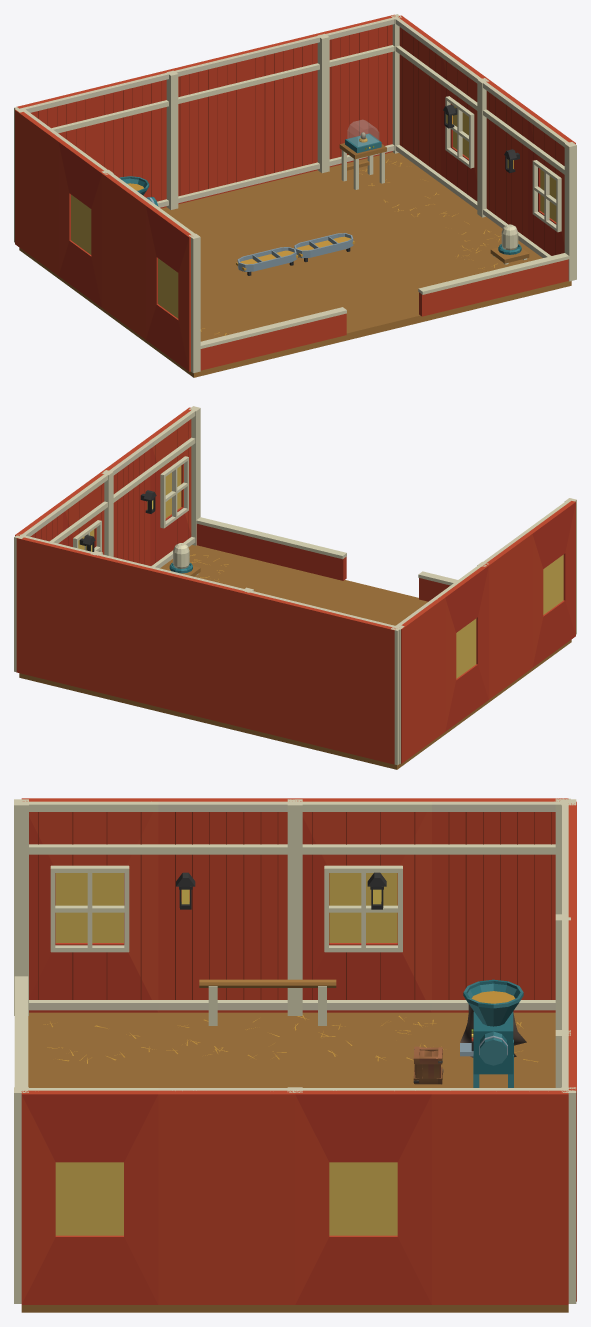
File: CoopInterior_Lv1.fbx
The picture shows the model from 3 angles, top to bottom: view 1: azimuth 30°, elevation 25°; view 2: azimuth 150°, elevation 25°; view 3: azimuth 270°, elevation 25°; orthographic projection. The views are drawn at different scales.
Parts seen in each view (by area): view 1: Floor.001, N01_Wall_2m.013, N01_Wall_2m.012, FrontCutaway_2mDoor.001, N01_Wall_2m.014, N01_Wall_2m.011, N01_WindowWall_2m.005, N01_Wall_2m.015, N01_WindowWall_2m.006, N01_Wall_2m.016, N01_Wall_2m.018, N01_Wall_2m.017 (+15 smaller); view 2: N01_Wall_2m.014, N01_Wall_2m.013, N01_Wall_2m.012, N01_Wall_2m.011, N01_Wall_2m.010, Floor.001, N01_Wall_2m.016, N01_WindowWall_2m.006, N01_Wall_2m.015, N01_WindowWall_2m.005, N01_WindowWall_2m.007, FrontCutaway_2mDoor.001 (+7 smaller); view 3: Floor.001, N01_WindowWall_2m.007, N01_Wall_2m.017, N01_Wall_2m.018, N01_WindowWall_2m.008, N01_WindowWall_2m.005, N01_WindowWall_2m.006, N01_Wall_2m.015, N01_Wall_2m.016, C02_FeedMaker_Small.002, N01_Post.011, N01_Post.010 (+13 smaller).
Boxes of the visible parts, bbox=[...] form: Floor.001: bbox=[19, 152, 571, 377]; N01_Wall_2m.013: bbox=[243, 33, 320, 187]; N01_Wall_2m.012: bbox=[168, 51, 248, 204]; FrontCutaway_2mDoor.001: bbox=[200, 253, 569, 370]; N01_Wall_2m.014: bbox=[319, 14, 395, 167]; N01_Wall_2m.011: bbox=[93, 70, 169, 208]; N01_WindowWall_2m.005: bbox=[145, 203, 194, 371]; N01_Wall_2m.015: bbox=[102, 173, 153, 339]; N01_WindowWall_2m.006: bbox=[58, 139, 107, 307]; N01_Wall_2m.016: bbox=[15, 109, 66, 275]; N01_Wall_2m.018: bbox=[395, 15, 444, 180]; N01_Wall_2m.017: bbox=[483, 79, 531, 243]; N01_Wall_2m.014: bbox=[16, 536, 93, 690]; N01_Wall_2m.013: bbox=[92, 554, 172, 709]; N01_Wall_2m.012: bbox=[168, 571, 244, 727]; N01_Wall_2m.011: bbox=[243, 591, 323, 746]; N01_Wall_2m.010: bbox=[319, 608, 395, 764]; Floor.001: bbox=[19, 545, 571, 769]; N01_Wall_2m.016: bbox=[398, 595, 445, 763]; N01_WindowWall_2m.006: bbox=[437, 565, 488, 731]; N01_Wall_2m.015: bbox=[483, 531, 532, 699]; N01_WindowWall_2m.005: bbox=[524, 501, 575, 667]; N01_WindowWall_2m.007: bbox=[146, 407, 195, 568]; FrontCutaway_2mDoor.001: bbox=[196, 517, 457, 601]; Floor.001: bbox=[21, 1012, 568, 1312]; N01_WindowWall_2m.007: bbox=[21, 1088, 158, 1304]; N01_Wall_2m.017: bbox=[158, 1088, 294, 1304]; N01_Wall_2m.018: bbox=[432, 1088, 568, 1304]; N01_WindowWall_2m.008: bbox=[295, 1088, 431, 1304]; N01_WindowWall_2m.005: bbox=[21, 798, 158, 1012]; N01_WindowWall_2m.006: bbox=[295, 798, 431, 1012]; N01_Wall_2m.015: bbox=[158, 798, 294, 1012]; N01_Wall_2m.016: bbox=[432, 798, 568, 1012]; C02_FeedMaker_Small.002: bbox=[460, 979, 523, 1087]; N01_Post.011: bbox=[287, 799, 302, 1015]; N01_Post.010: bbox=[14, 799, 28, 1015].
Bounding box in the file's own units: 10.24 × 3.58 × 8.23.
